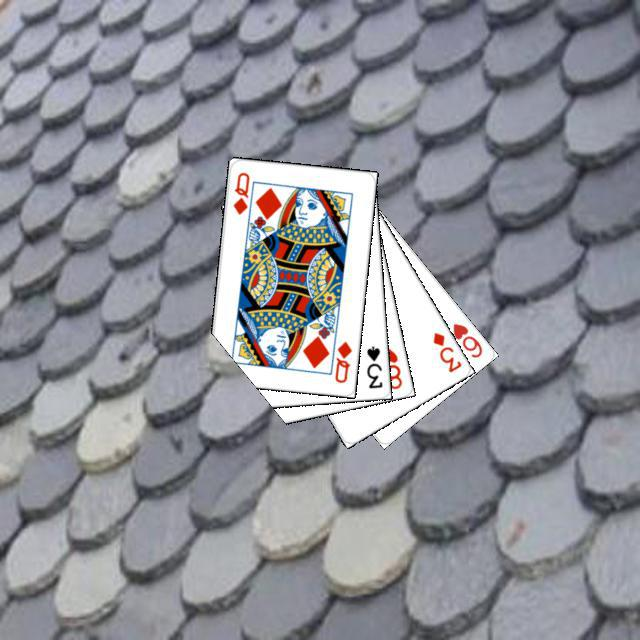3d: (428, 327, 463, 374)
3s: (362, 341, 384, 390)
6h: (448, 318, 484, 360)
8h: (377, 343, 404, 391)
Qd: (228, 167, 251, 216), (330, 337, 353, 384)
